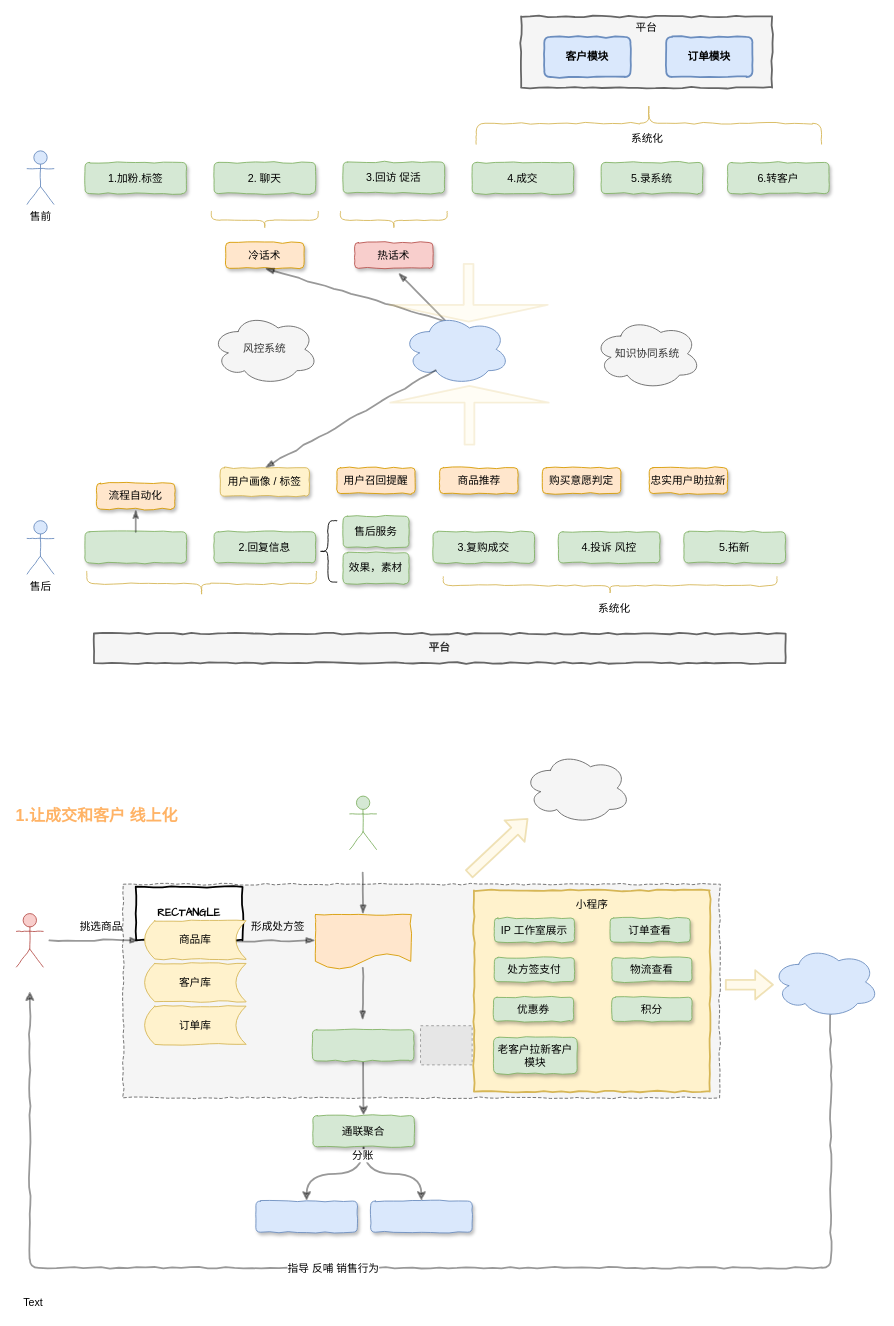
Some shapes in this 894 by 1326 pixel diagram are drawn without their labels. Grey dashed boxes stand in for pictures. Each missing label, with the centre of its shape:
"1.接售前转客户" goes at [136,548].
"K 9" goes at [577,788].
"供应链公司" goes at [421,1217].
"半系统化" goes at [201,583].
"处方签 （小程序）" goes at [363,942].
"大数据" goes at [825,982].
"大数据平台" goes at [456,349].
"客户" goes at [362,822].
"微信支付" goes at [363,1046].
"销前" goes at [29,940].
"高新科技公司" goes at [307,1217].
